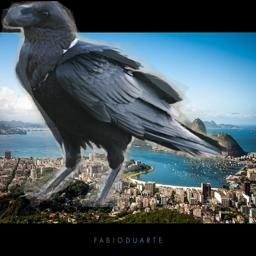Crow: (0, 1, 228, 207)
